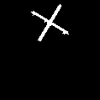single_crochet: (32, 5, 67, 40)
